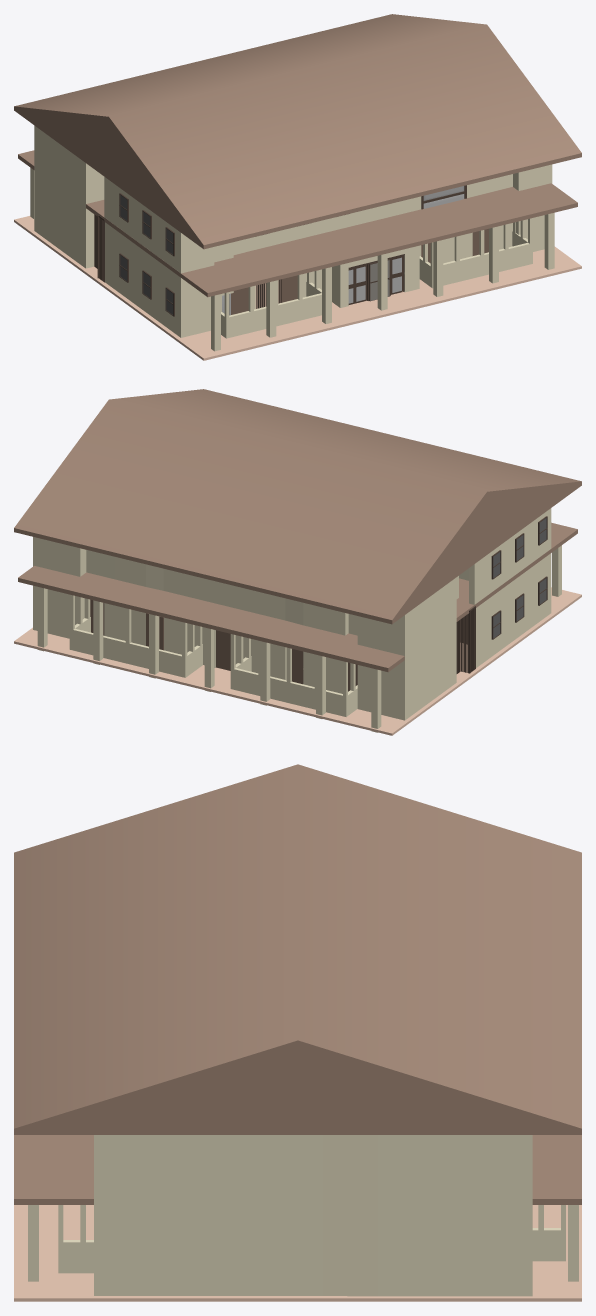
3 views of the same model, one above another, from view 1: azimuth 30°, elevation 25°; view 2: azimuth 150°, elevation 25°; view 3: azimuth 270°, elevation 25° (orthographic). The views are drawn at different scales.
Parts seen in each view (by area): view 1: pCube32, polySurface80, pCube33, pCube31, balcony124, balcony, pasted__polySurface176.001, pCube35, pCube37, pCube38, pCube40, pCube34 (+4 smaller); view 2: pCube32, polySurface80, pCube33, pCube31, balcony124124124124, balcony124124124, pCube36.001, pCube39.001, pCube40.001, pCube37.001, pCube41, pCube38.001 (+4 smaller); view 3: pCube32, polySurface80, pCube31, pCube33, balcony124, balcony124124124124, pCube40, pCube40.001.
Part boxes in pixels (bbox=[...]): pCube32: bbox=[14, 14, 581, 249]; polySurface80: bbox=[34, 125, 552, 337]; pCube33: bbox=[18, 150, 577, 297]; pCube31: bbox=[14, 216, 581, 360]; balcony124: bbox=[419, 218, 532, 288]; balcony: bbox=[221, 270, 321, 338]; pasted__polySurface176.001: bbox=[348, 254, 404, 304]; pCube35: bbox=[266, 280, 276, 337]; pCube37: bbox=[377, 253, 387, 310]; pCube38: bbox=[433, 240, 443, 296]; pCube40: bbox=[544, 212, 554, 269]; pCube34: bbox=[211, 294, 220, 351]; pCube32: bbox=[14, 389, 581, 624]; polySurface80: bbox=[33, 508, 551, 720]; pCube33: bbox=[18, 522, 577, 672]; pCube31: bbox=[14, 587, 581, 735]; balcony124124124124: bbox=[69, 594, 202, 677]; balcony124124124: bbox=[230, 634, 357, 716]; pCube36.001: bbox=[260, 641, 270, 705]; pCube39.001: bbox=[93, 600, 103, 664]; pCube40.001: bbox=[37, 587, 47, 651]; pCube37.001: bbox=[204, 627, 214, 691]; pCube41: bbox=[371, 668, 381, 732]; pCube38.001: bbox=[149, 614, 158, 678]; pCube32: bbox=[14, 764, 581, 1134]; polySurface80: bbox=[94, 1135, 532, 1296]; pCube31: bbox=[14, 1205, 581, 1301]; pCube33: bbox=[14, 1135, 581, 1204]; balcony124: bbox=[58, 1205, 93, 1273]; balcony124124124124: bbox=[532, 1205, 565, 1261]; pCube40: bbox=[28, 1205, 38, 1281]; pCube40.001: bbox=[568, 1205, 578, 1281].
Bounding box in the file's own units: 0.408 × 0.1815 × 0.3547.
